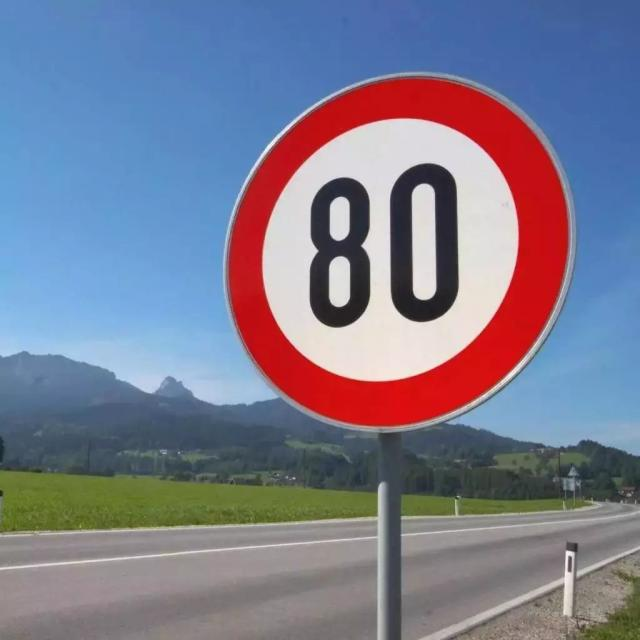speed limit 80: (223, 71, 576, 432)
